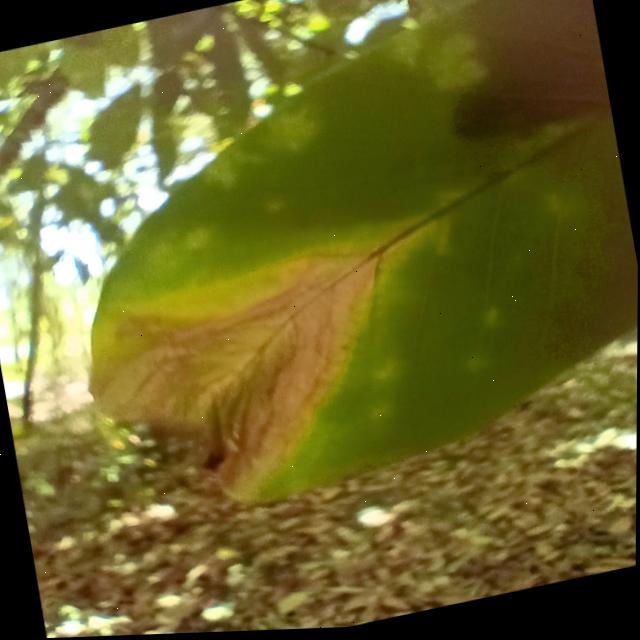Leaf-Blight: (74, 248, 409, 528)
